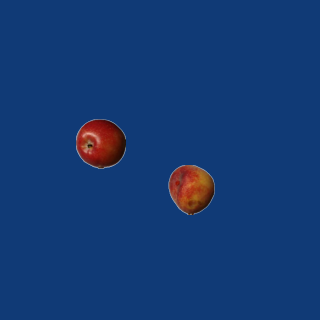Apple Braeburn: (75, 118, 125, 168)
Peach: (166, 164, 216, 214)
